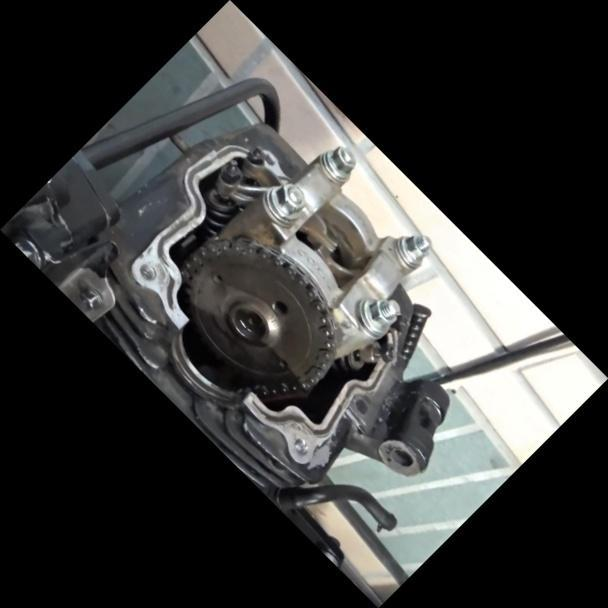hole: (135, 260, 159, 283), (289, 435, 312, 458)
